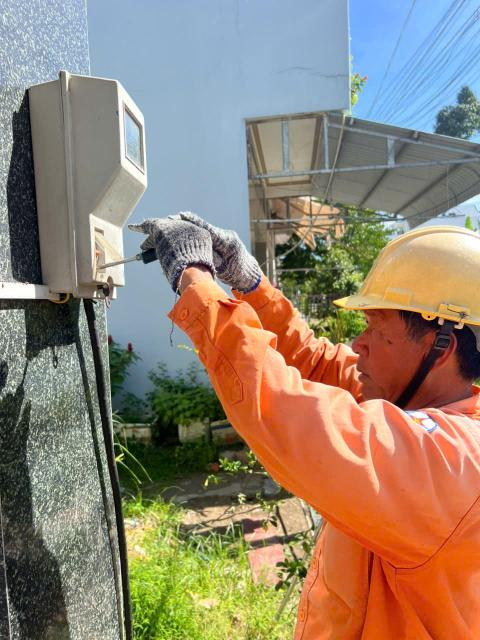gloves: (151, 170, 213, 287), (196, 203, 262, 289)
helmet: (315, 172, 480, 342)
